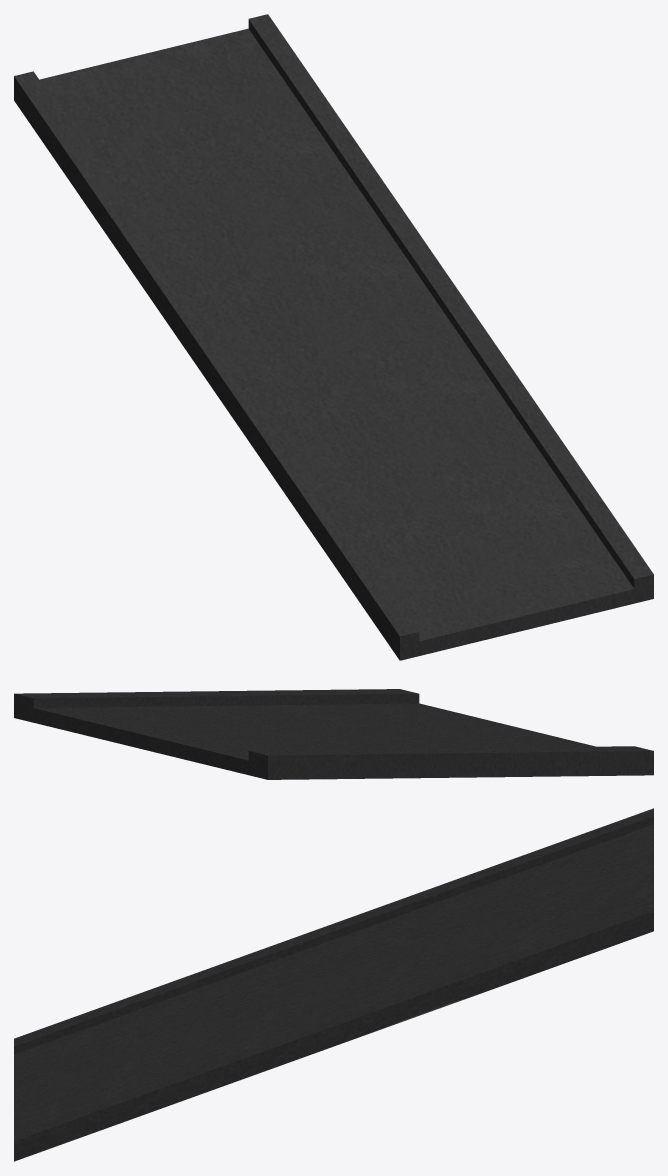
The model's file is Map_Access_Ramp_Straight_Angled.fbx.
The picture shows the model from 3 angles, top to bottom: view 1: azimuth 30°, elevation 25°; view 2: azimuth 150°, elevation 25°; view 3: azimuth 270°, elevation 25°; orthographic projection. The views are drawn at different scales.
Parts seen in each view (by area): view 1: Map_Access_Ramp_Straight_Angled; view 2: Map_Access_Ramp_Straight_Angled; view 3: Map_Access_Ramp_Straight_Angled.
Boxes of the visible parts, left/top/right/bottom form: Map_Access_Ramp_Straight_Angled: left=14, top=14, right=653, bottom=660; Map_Access_Ramp_Straight_Angled: left=14, top=689, right=653, bottom=779; Map_Access_Ramp_Straight_Angled: left=14, top=808, right=653, bottom=1161.
Bounding box in the file's own units: 241 × 274 × 634.
Materials: 1 (1 with a texture image).
